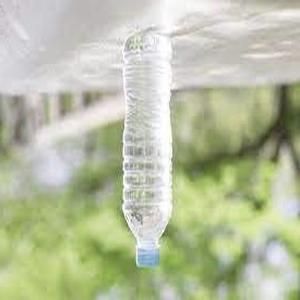Plastic: (119, 23, 173, 268)
